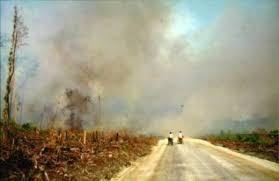yanwu: (3, 0, 278, 127)
